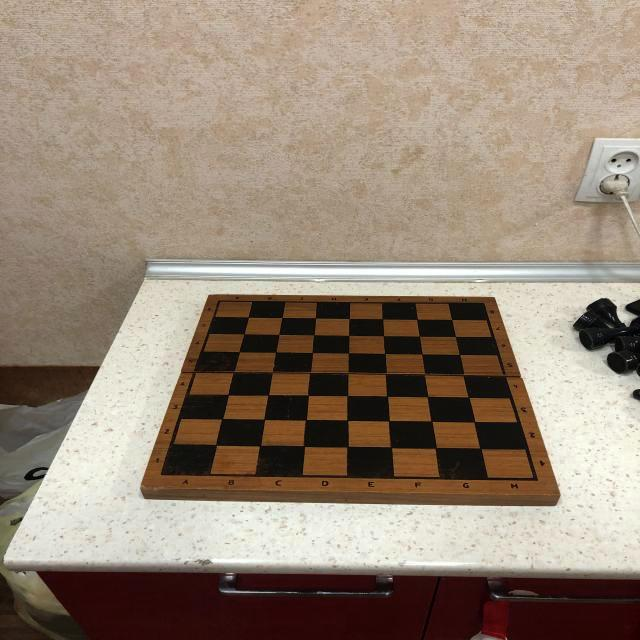chess-table-corners: (528, 474, 544, 484), (478, 300, 489, 307), (159, 472, 165, 477), (217, 299, 223, 304)
